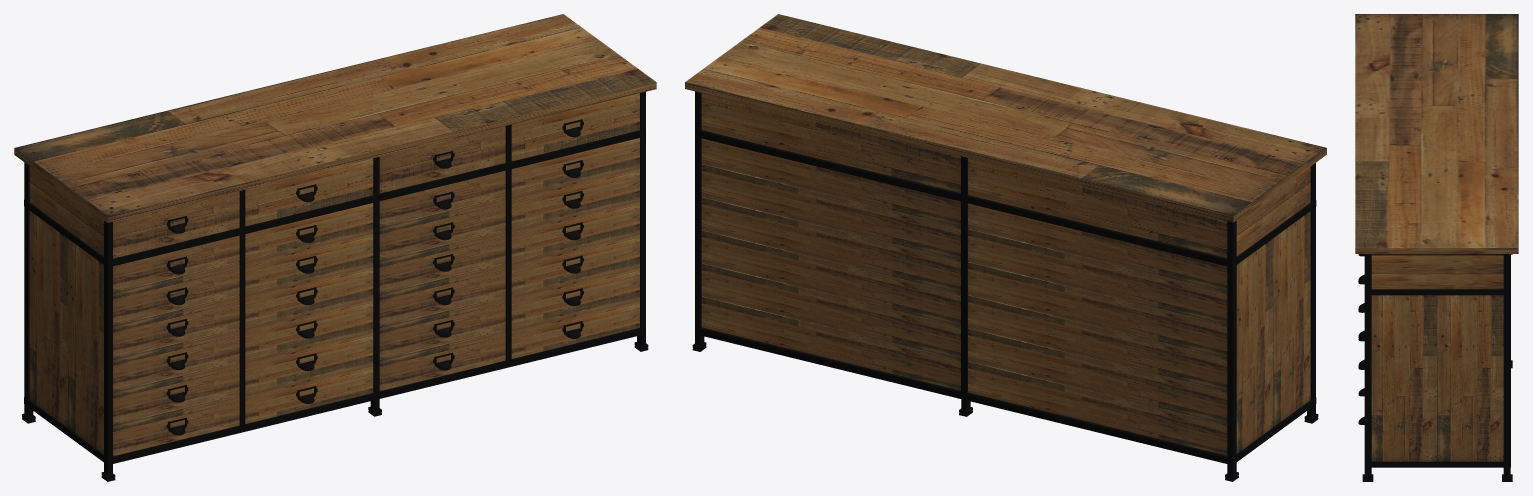
3 views of the same model, side by side, from view 1: azimuth 30°, elevation 25°; view 2: azimuth 150°, elevation 25°; view 3: azimuth 270°, elevation 25° (orthographic). The views are drawn at different scales.
Parts seen in each view (by area): view 1: столешница, бок_1, обводкасередина_1_2, полкаверх14, полкаверх, обводкасередина_1, Cube_7_2_2, Cube_7_3_2, Cube_7_4_2, Cube_7_1_2, Cube_7_1, Cube_7_4 (+8 smaller); view 2: столешница, бок_1, обводкасередина_1_2, полкаверх14, полкаверх, Cube_7_3, Cube_7_1_2, Cube_7_1, Cube_7_2, Cube_7_4, Cube_7_2_2, Cube_7_3_2 (+7 smaller); view 3: столешница, бок, обводкасередина_1, бок_верх, ручки.
Part boxes in pixels (x1,y1,x2,y2): столешница: (14,14,656,222); бок_1: (29,211,103,453); обводкасередина_1_2: (22,157,381,481); полкаверх14: (379,93,639,193); полкаверх: (113,158,373,258); обводкасередина_1: (373,92,648,399); Cube_7_2_2: (379,230,639,326); Cube_7_3_2: (379,197,639,293); Cube_7_4_2: (379,164,639,260); Cube_7_1_2: (379,263,639,359); Cube_7_1: (113,328,373,424); Cube_7_4: (113,229,373,325); столешница: (685,14,1326,222); бок_1: (1236,211,1310,453); обводкасередина_1_2: (961,156,1318,481); полкаверх14: (701,93,960,193); полкаверх: (968,158,1227,257); Cube_7_3: (968,262,1227,357); Cube_7_1_2: (701,263,960,359); Cube_7_1: (968,328,1227,423); Cube_7_2: (968,295,1227,390); Cube_7_4: (968,229,1227,324); Cube_7_2_2: (701,230,960,325); Cube_7_3_2: (701,197,960,292); столешница: (1355,14,1518,253); бок: (1371,295,1503,461); обводкасередина_1: (1362,254,1512,481); бок_верх: (1371,254,1503,289); ручки: (1358,254,1364,424).
Size of the model in its own units: 1.94 by 0.9104 by 0.571.
16 materials, 15 textured.
